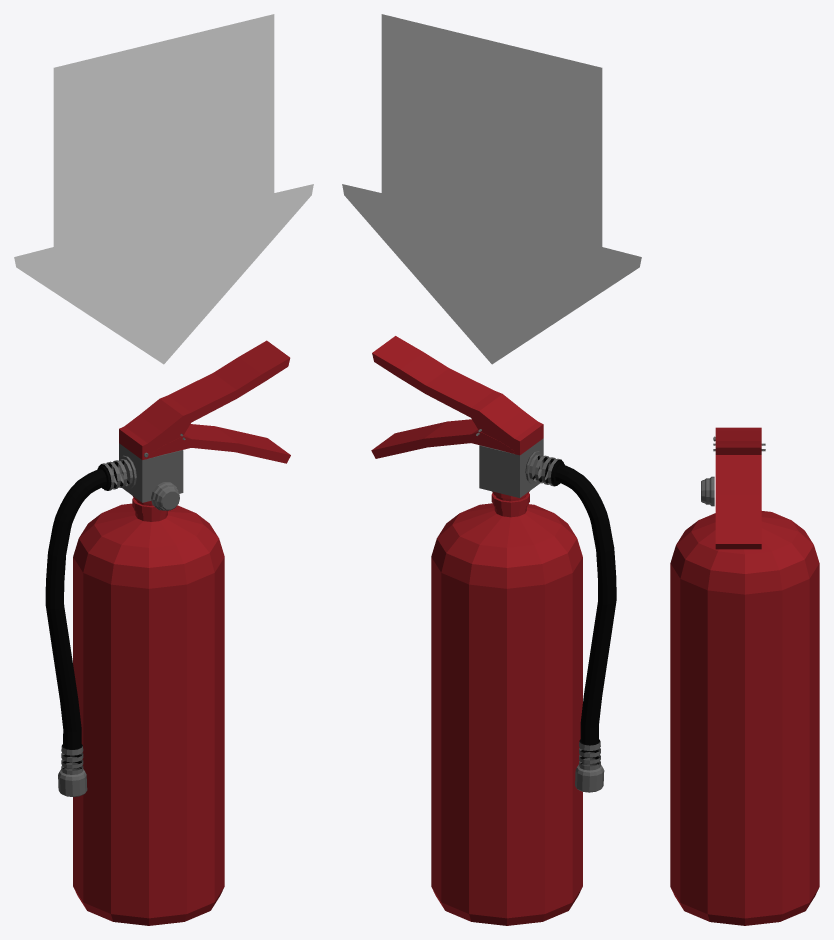
Rendered from extintorIFBAH2O.fbx.
3 renders of one model, left to right at view 1: azimuth 30°, elevation 25°; view 2: azimuth 150°, elevation 25°; view 3: azimuth 270°, elevation 25°, orthographic.
Visible parts, largest first — view 1: Circle.004, Plane.001, Plane.003, Circle.006, Cube.005, Cube.004, Cube.003, Circle.005; view 2: Plane.003, Circle.004, Circle.006, Cube.005, Cube.004, Cube.003; view 3: Circle.004, Cube.004, Cube.005, Circle.005.
Part boxes in pixels (x1,y1,x2,y2): Circle.004: (73, 496, 224, 925); Plane.001: (77, 34, 255, 263); Plane.003: (14, 14, 313, 364); Circle.006: (45, 455, 136, 796); Cube.005: (119, 340, 290, 459); Cube.004: (148, 424, 290, 463); Cube.003: (119, 443, 183, 502); Circle.005: (151, 482, 179, 510); Plane.003: (342, 14, 641, 364); Circle.004: (431, 491, 582, 925); Circle.006: (525, 451, 616, 792); Cube.005: (372, 336, 543, 455); Cube.004: (371, 419, 514, 458); Cube.003: (479, 438, 543, 497); Circle.004: (670, 511, 819, 925); Cube.004: (715, 455, 761, 549); Cube.005: (715, 427, 761, 454); Circle.005: (701, 476, 714, 506).
Bounding box in the file's own units: 2.12 × 5.77 × 0.9284.
